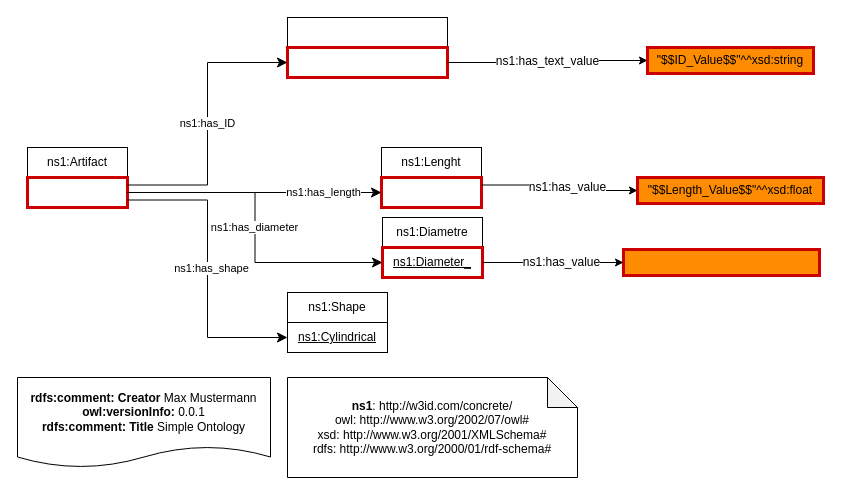
The diagram is 842 pixels wide and 495 high, and some of its shapes have lost their labels. Here are the shapes that lost their labels. From the top down, the centre of each, then its label:
pixel 367 32: ns1:NonNameIdentifier
pixel 367 62: ns1:ID_
pixel 77 192: ns1:Probe_
pixel 431 192: ns1:Length_
pixel 721 262: "$$Diametre_Value$$"^^xsd:float
